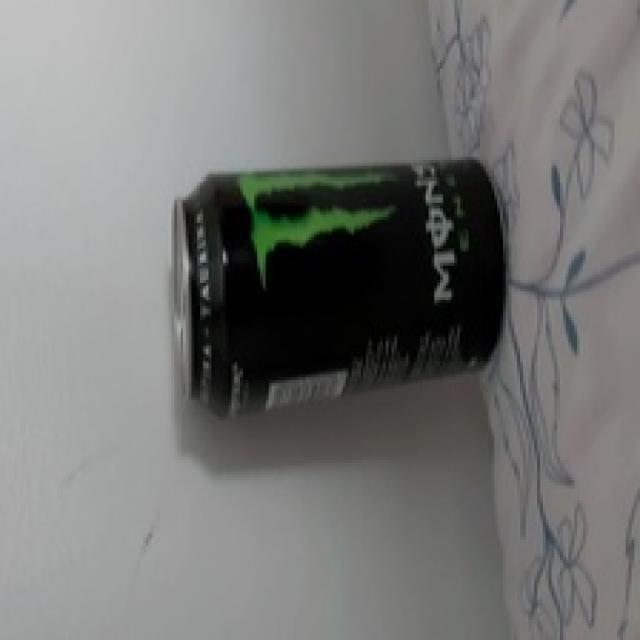recyclable: (171, 155, 507, 423)
